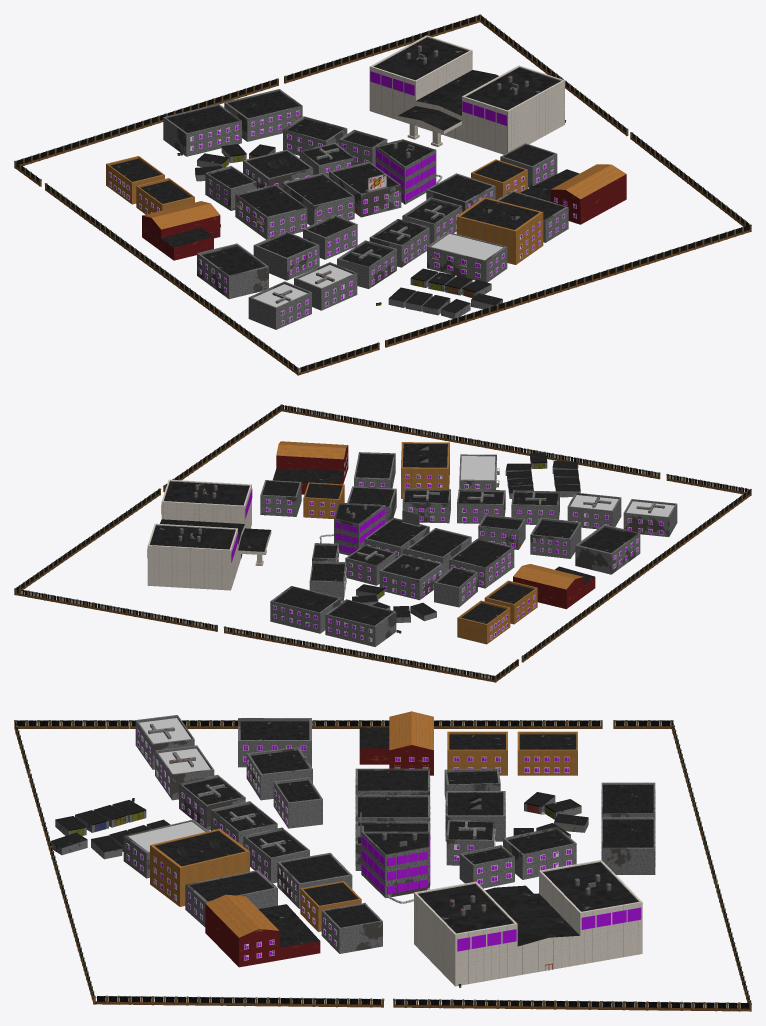
Rendered from Map1.2.fbx.
3 views of the same model, one above another, from view 1: azimuth 30°, elevation 25°; view 2: azimuth 150°, elevation 25°; view 3: azimuth 270°, elevation 25° (orthographic). The views are drawn at different scales.
Visible parts, largest first — view 1: тц, Cube.041, Cube.110, Cube.045, Cube.056, Cube.113, Cube.062, Cube.038, Cube.067, Cube.063, Cube.112, Cube.064 (+23 smaller); view 2: тц, Cube.041, Cube.113, Cube.110, Cube.045, Cube.038, Cube.062, Cube.056, Cube.111, Cube.112, Cube.043, Cube.063 (+22 smaller); view 3: тц, Cube.111, Cube.045, Cube.041, Cube.056, Cube.112, Cube.062, Cube.044, Cube.038, Cube.060, Cube.057, Cube.052 (+27 smaller).
Part boxes in pixels (box(x1,y1,x2,y2)): тц: box(369, 35, 564, 154); Cube.041: box(163, 89, 302, 156); Cube.110: box(299, 224, 751, 374); Cube.045: box(520, 164, 626, 224); Cube.056: box(456, 197, 543, 264); Cube.113: box(14, 15, 479, 168); Cube.062: box(142, 201, 220, 260); Cube.038: box(197, 243, 268, 299); Cube.067: box(427, 232, 507, 282); Cube.063: box(235, 184, 307, 239); Cube.112: box(15, 162, 299, 375); Cube.064: box(282, 173, 354, 225); тц: box(147, 479, 271, 590); Cube.041: box(270, 586, 396, 646); Cube.113: box(16, 589, 496, 682); Cube.110: box(280, 404, 748, 494); Cube.045: box(273, 441, 348, 494); Cube.038: box(575, 524, 640, 574); Cube.062: box(513, 564, 595, 609); Cube.056: box(401, 442, 449, 498); Cube.111: box(14, 405, 281, 595); Cube.112: box(496, 489, 751, 681); Cube.043: box(379, 554, 442, 600); Cube.063: box(449, 538, 514, 588); тц: box(414, 860, 642, 986); Cube.111: box(95, 995, 751, 1011); Cube.045: box(205, 894, 320, 967); Cube.041: box(601, 782, 655, 874); Cube.056: box(150, 828, 249, 906); Cube.112: box(14, 720, 670, 728); Cube.062: box(359, 711, 433, 775); Cube.044: box(361, 831, 429, 898); Cube.038: box(238, 718, 311, 767); Cube.060: box(517, 731, 577, 775); Cube.057: box(185, 870, 277, 926); Cube.052: box(321, 903, 382, 953).
Size of the model in its own units: 22967 by 2244 by 25246.
